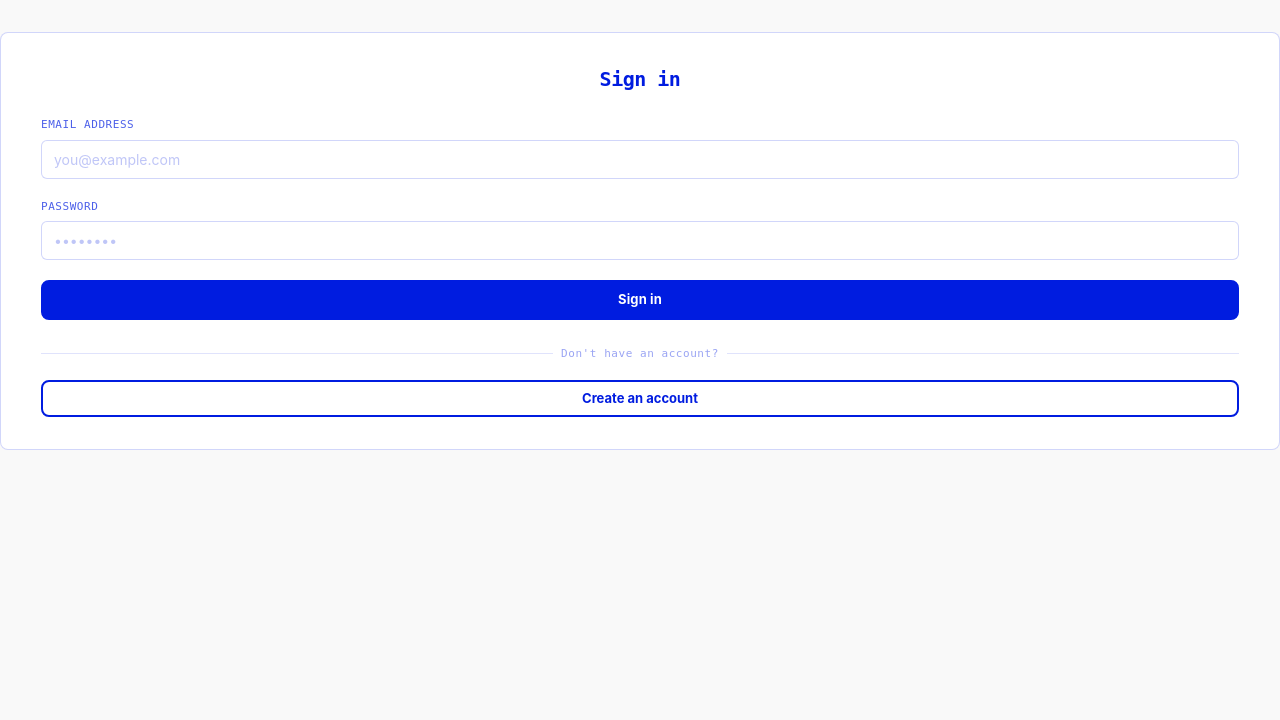
Test: Authentication Flow Integration › Error Handling › explains an account lockout without suggesting a retry in seconds
This screenshot has width=1280, height=720.
Type "locked@example.com" into the field labelled "Email address".
click(640, 159); type("locked@example.com")  # box top-left (41, 140), bottom-right (1239, 178)
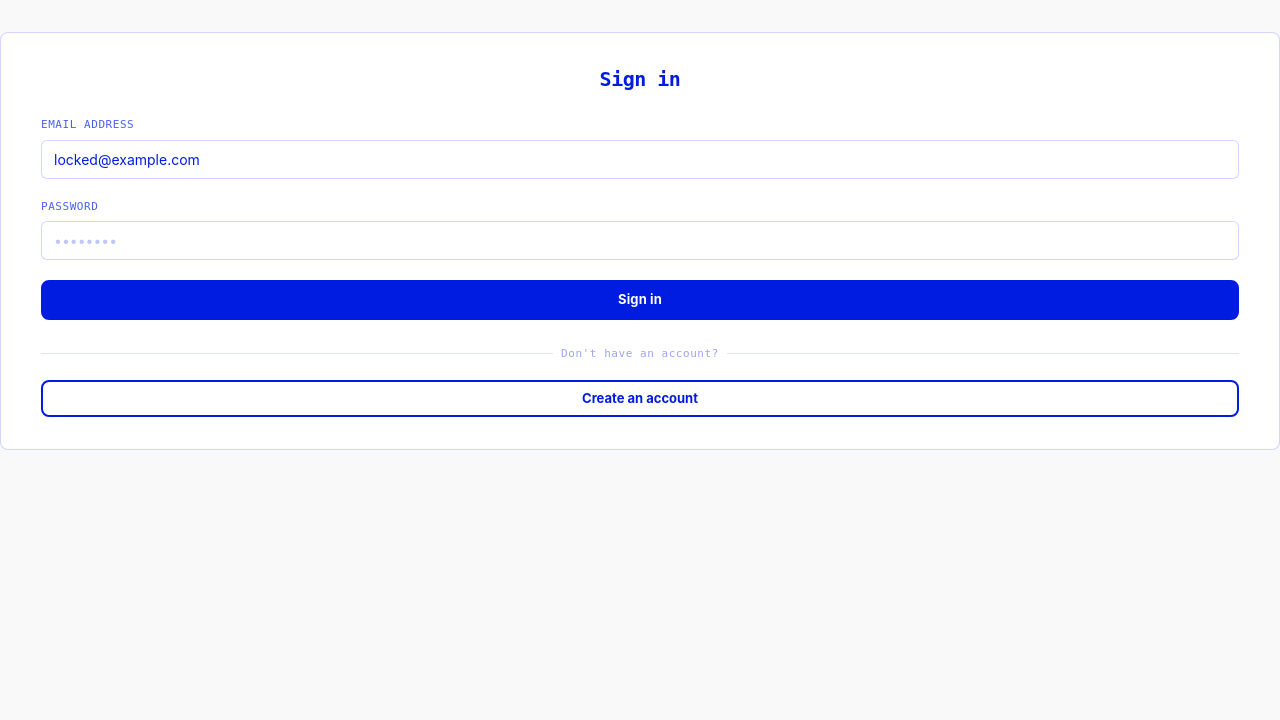
Type "Password123!" into the password field labelled "Password".
click(640, 240); type("Password123!")  # box top-left (41, 221), bottom-right (1239, 260)
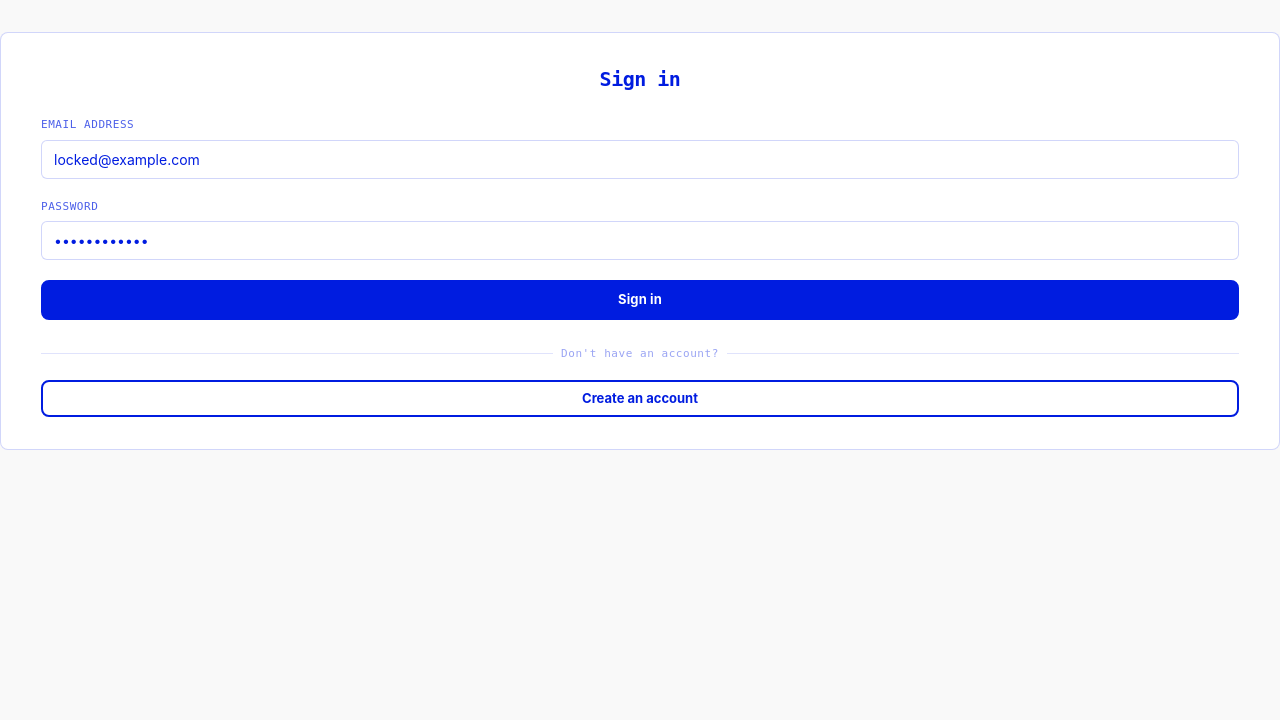
Click the button "Sign in".
click(640, 300)  # box top-left (41, 280), bottom-right (1239, 320)
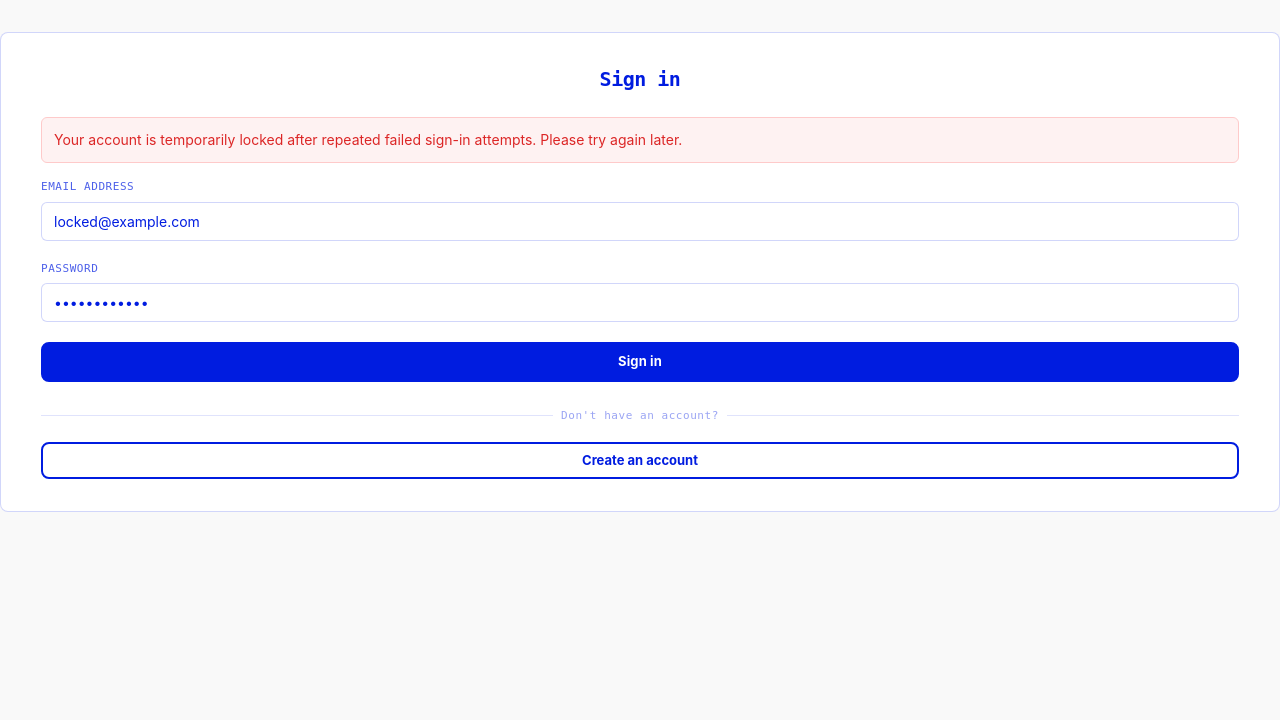
expect the text "account is temporarily locked" is shown: met, box top-left (54, 131), bottom-right (682, 148)
